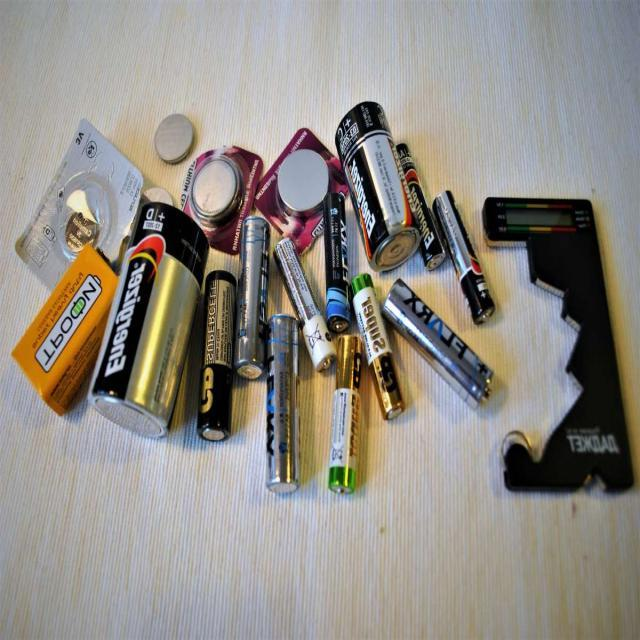battery: (89, 200, 210, 442), (9, 244, 120, 415), (380, 276, 496, 412), (336, 98, 423, 277), (276, 235, 340, 379), (350, 270, 410, 422), (431, 188, 498, 324), (195, 262, 238, 446), (228, 211, 274, 381), (394, 138, 450, 268), (261, 316, 301, 495), (328, 329, 362, 497), (324, 190, 352, 330)
